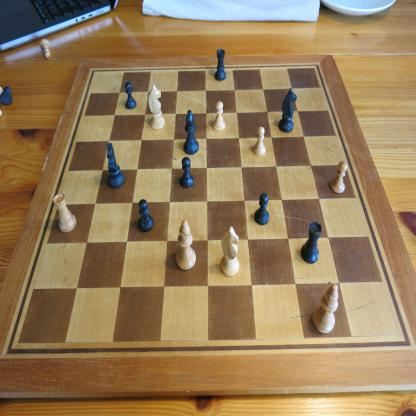black-bishop: (183, 109, 200, 156)
black-knight: (106, 142, 126, 190), (278, 87, 297, 134)
black-pawn: (254, 192, 270, 226), (138, 198, 154, 232), (180, 156, 194, 189), (124, 81, 137, 110)
black-rook: (300, 221, 322, 265), (214, 48, 227, 82)
white-bishop: (312, 282, 338, 334), (176, 219, 197, 271)
white-knight: (220, 226, 240, 278), (148, 84, 165, 130)
white-pawn: (329, 161, 348, 194), (212, 101, 226, 132), (253, 126, 266, 157), (40, 38, 51, 60)
white-rook: (53, 192, 77, 233)
